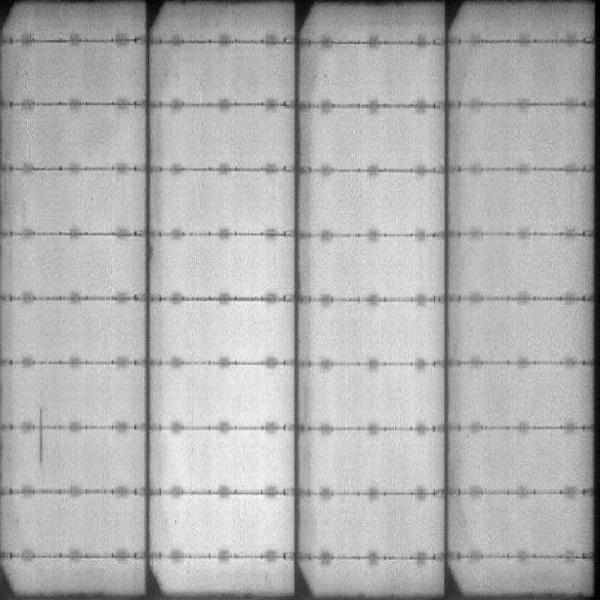scratch: (37, 407, 44, 468)
